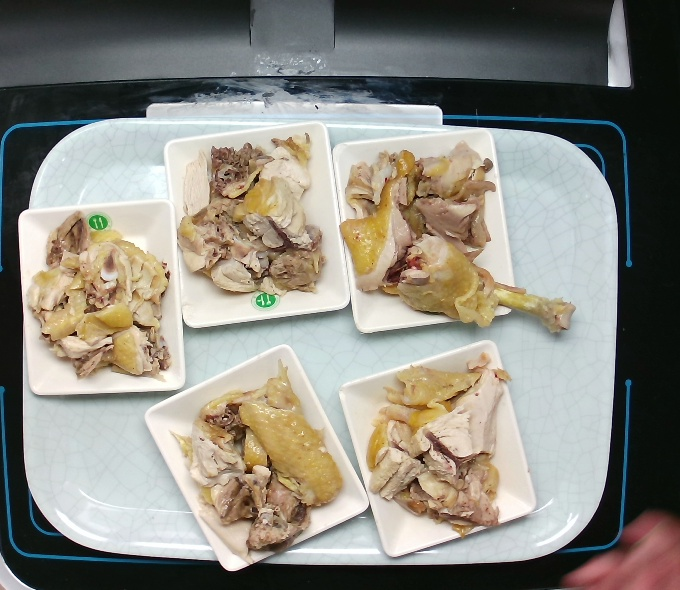wcq-BaiQieJi: (338, 143, 580, 340), (171, 358, 340, 556), (353, 345, 522, 543), (22, 209, 181, 382), (171, 135, 330, 308)
